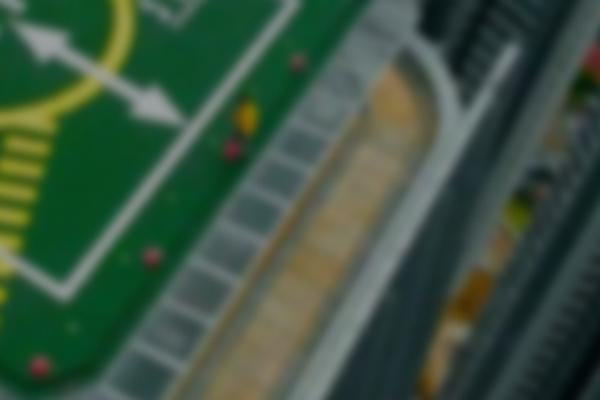Apron: (1, 1, 150, 132)
